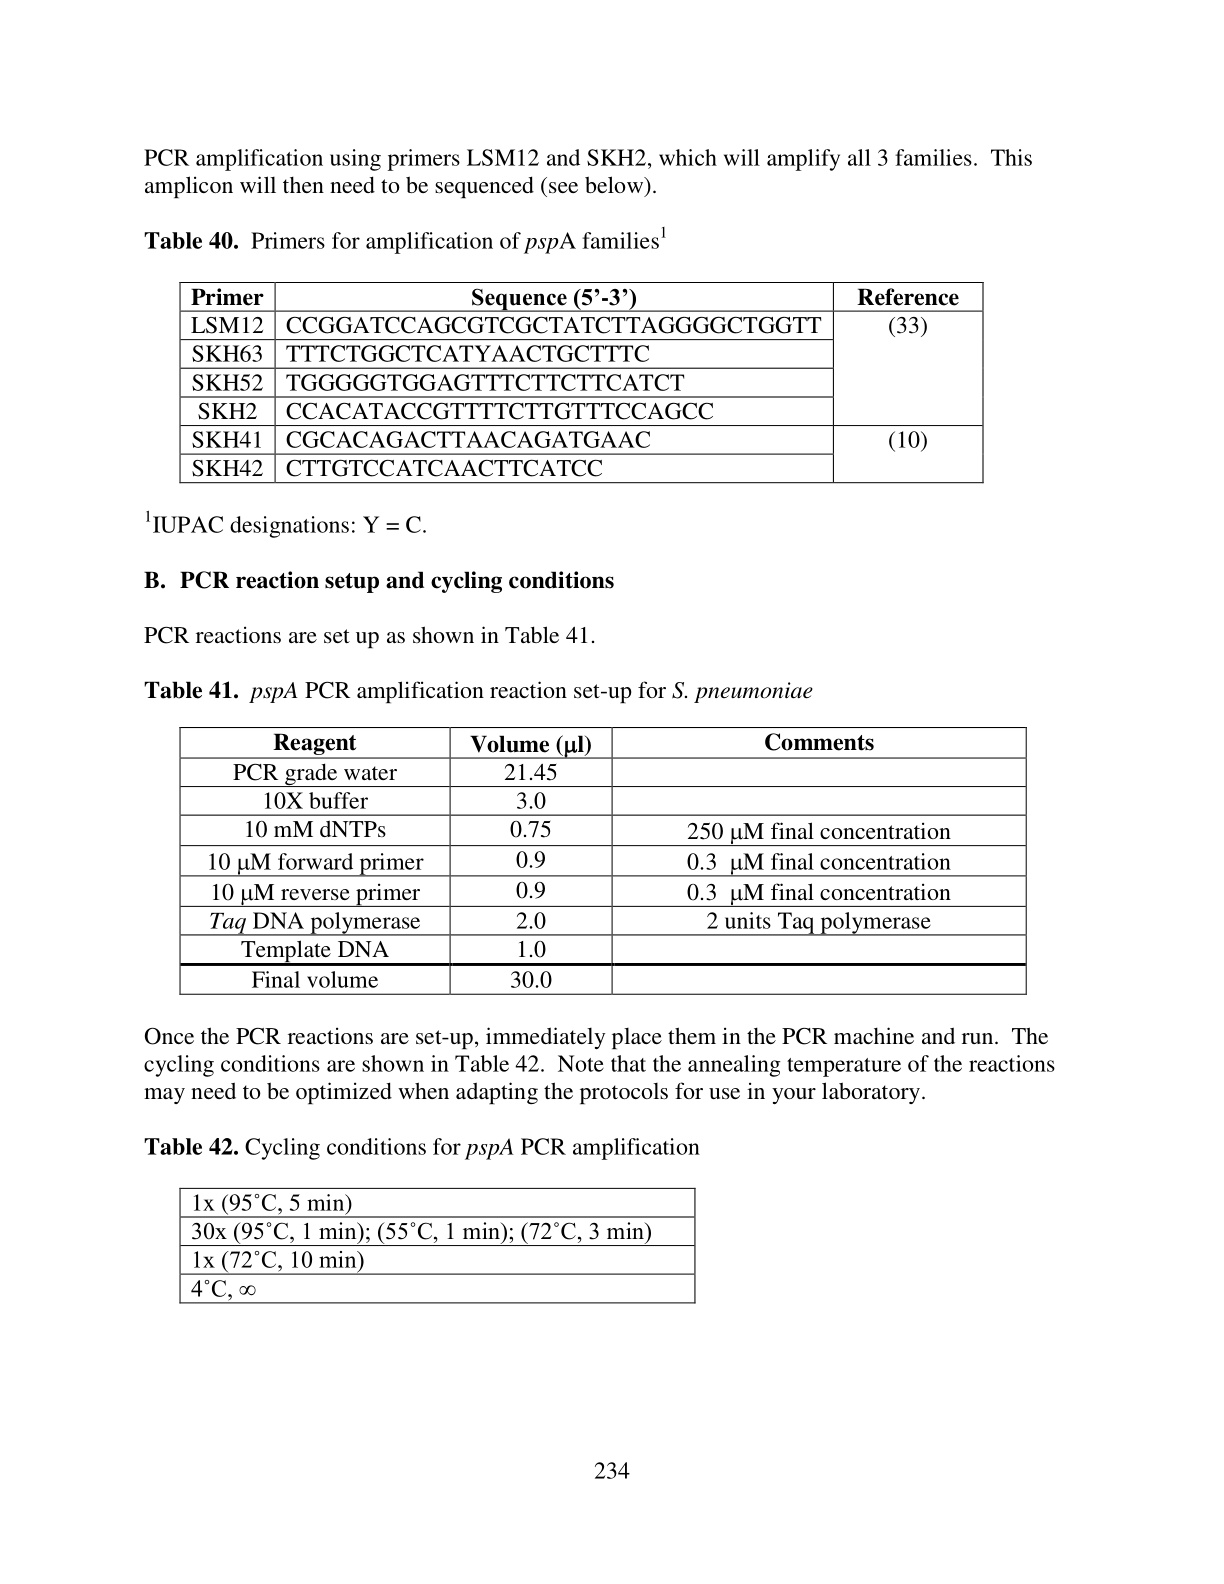full_lined: (177, 726, 1029, 996), (177, 1187, 697, 1305)
merged_cells: (177, 282, 985, 485)
